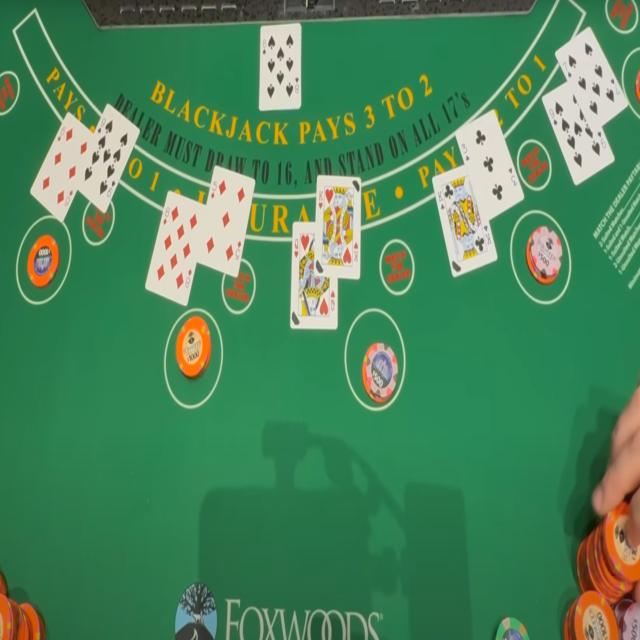3: (461, 142, 468, 154)
5: (212, 179, 217, 192)
6: (61, 125, 66, 136)
7: (562, 60, 568, 72)
8: (164, 205, 170, 218), (262, 38, 267, 48)
9: (548, 108, 556, 120), (100, 116, 106, 128)
K: (436, 190, 444, 202), (318, 189, 324, 202)
Q: (294, 238, 299, 250)
